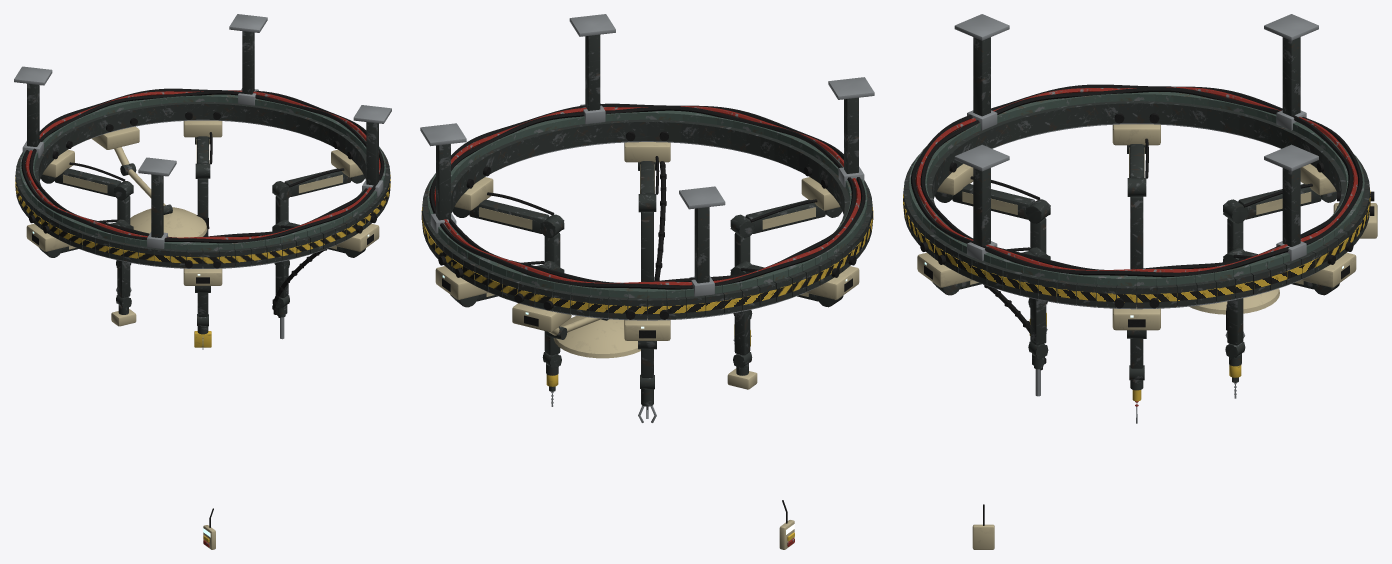
File: SurgeryGantryV2.fbx
3 renders of one model, left to right at view 1: azimuth 30°, elevation 25°; view 2: azimuth 150°, elevation 25°; view 3: azimuth 270°, elevation 25°, orthographic. The views are drawn at different scales.
Visible parts, largest first — view 1: BGT_Ring, BGT_RingCables, BGT_Hangers, BGT_RingHazard, BGT_LampHead, BGT_Arm_Gripper_Upper, BGT_Arm_Probe_Upper, BGT_Arm_Suction_Fore, BGT_Arm_Scanner_Fore, BGT_Carriage_Lamp, BGT_Carriage_Cutter, BGT_Carriage_Drill (+8 smaller); view 2: BGT_Ring, BGT_Hangers, BGT_RingCables, BGT_RingHazard, BGT_LampHead, BGT_Arm_Probe_Upper, BGT_Arm_Cutter_Upper, BGT_Arm_Suction_Fore, BGT_Arm_Scanner_Fore, BGT_Carriage_Lamp, BGT_Carriage_Gripper, BGT_Carriage_Suction (+7 smaller); view 3: BGT_Ring, BGT_Hangers, BGT_RingCables, BGT_RingHazard, BGT_Arm_Cutter_Upper, BGT_Arm_Suction_Fore, BGT_Arm_Gripper_Upper, BGT_Arm_Drill_Fore, BGT_Carriage_Probe, BGT_Carriage_Scanner, BGT_Carriage_Drill, BGT_Carriage_Suction (+7 smaller).
Boxes of the visible parts, left/top/right/bottom form: BGT_Ring: left=15, top=94, right=390, bottom=268; BGT_RingCables: left=21, top=88, right=384, bottom=243; BGT_Hangers: left=14, top=14, right=391, bottom=248; BGT_RingHazard: left=15, top=175, right=390, bottom=263; BGT_LampHead: left=130, top=207, right=209, bottom=237; BGT_Arm_Gripper_Upper: left=54, top=162, right=133, bottom=200; BGT_Arm_Probe_Upper: left=272, top=168, right=351, bottom=200; BGT_Arm_Suction_Fore: left=272, top=248, right=328, bottom=339; BGT_Arm_Scanner_Fore: left=111, top=260, right=136, bottom=326; BGT_Carriage_Lamp: left=91, top=118, right=139, bottom=149; BGT_Carriage_Cutter: left=183, top=260, right=222, bottom=285; BGT_Carriage_Drill: left=183, top=111, right=222, bottom=137; BGT_Ring: left=422, top=110, right=872, bottom=320; BGT_Hangers: left=420, top=14, right=874, bottom=296; BGT_RingCables: left=429, top=103, right=865, bottom=289; BGT_RingHazard: left=421, top=207, right=873, bottom=314; BGT_LampHead: left=553, top=315, right=640, bottom=358; BGT_Arm_Probe_Upper: left=469, top=192, right=564, bottom=237; BGT_Arm_Cutter_Upper: left=730, top=199, right=825, bottom=237; BGT_Arm_Suction_Fore: left=641, top=161, right=666, bottom=281; BGT_Arm_Scanner_Fore: left=727, top=310, right=757, bottom=389; BGT_Carriage_Lamp: left=512, top=293, right=571, bottom=332; BGT_Carriage_Gripper: left=624, top=309, right=670, bottom=340; BGT_Carriage_Suction: left=624, top=131, right=670, bottom=162; BGT_Ring: left=903, top=92, right=1369, bottom=309; BGT_Hangers: left=954, top=14, right=1318, bottom=261; BGT_RingCables: left=911, top=84, right=1362, bottom=277; BGT_RingHazard: left=903, top=190, right=1370, bottom=302; BGT_Arm_Cutter_Upper: left=952, top=176, right=1050, bottom=223; BGT_Arm_Suction_Fore: left=983, top=284, right=1048, bottom=396; BGT_Arm_Gripper_Upper: left=1223, top=183, right=1321, bottom=223; BGT_Arm_Drill_Fore: left=1225, top=298, right=1245, bottom=382; BGT_Carriage_Probe: left=1112, top=298, right=1160, bottom=330; BGT_Carriage_Scanner: left=1112, top=113, right=1160, bottom=145; BGT_Carriage_Drill: left=1301, top=242, right=1356, bottom=287; BGT_Carriage_Suction: left=917, top=242, right=972, bottom=287.
Size of the model in its own units: 2.2 by 2.48 by 2.17.
